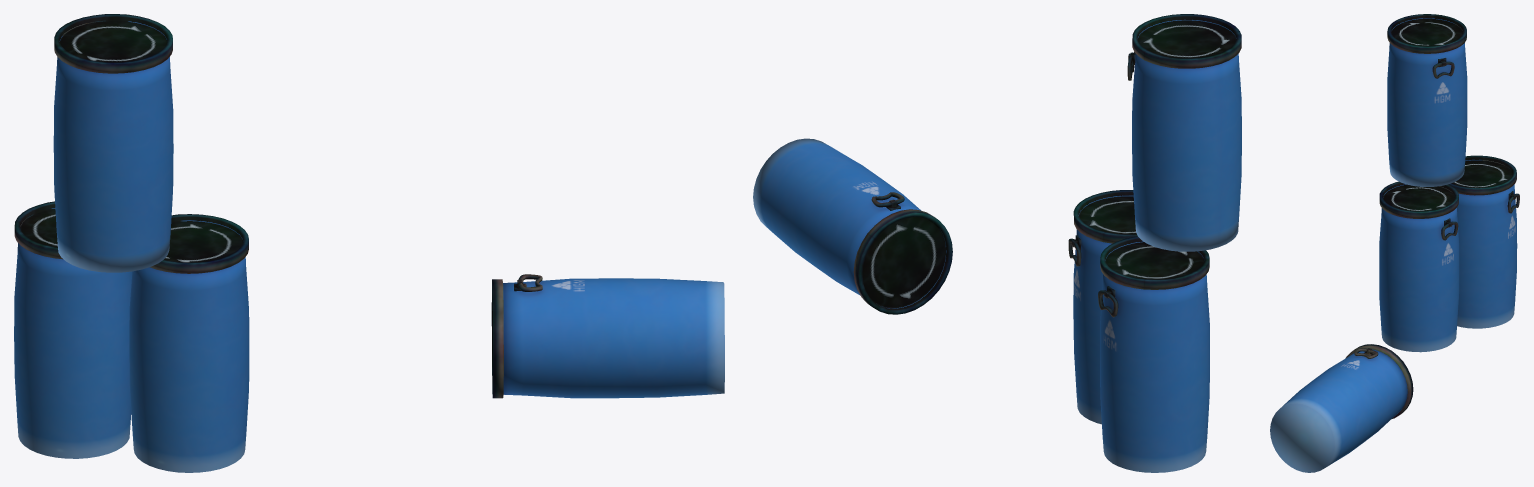
Rendered from barrels_40.fbx.
3 views of the same model, side by side, from view 1: azimuth 30°, elevation 25°; view 2: azimuth 150°, elevation 25°; view 3: azimuth 270°, elevation 25° (orthographic). The views are drawn at different scales.
Visible parts, largest first — view 1: barrel; view 2: barrel; view 3: barrel.
Boxes of the visible parts, bbox=[...] form: barrel: bbox=[14, 14, 724, 472]; barrel: bbox=[753, 14, 1241, 472]; barrel: bbox=[1270, 14, 1519, 472].
Size of the model in its own units: 3362 by 2282 by 1828.
Materials: 1 (1 with a texture image).
